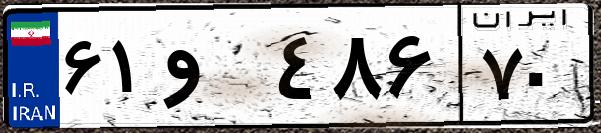0: (525, 38, 570, 115)
1: (110, 28, 158, 98)
4: (270, 28, 330, 110)
6: (385, 28, 445, 110), (57, 26, 110, 100)
7: (475, 38, 525, 113)
8: (330, 28, 385, 110)
و: (158, 20, 270, 120)
